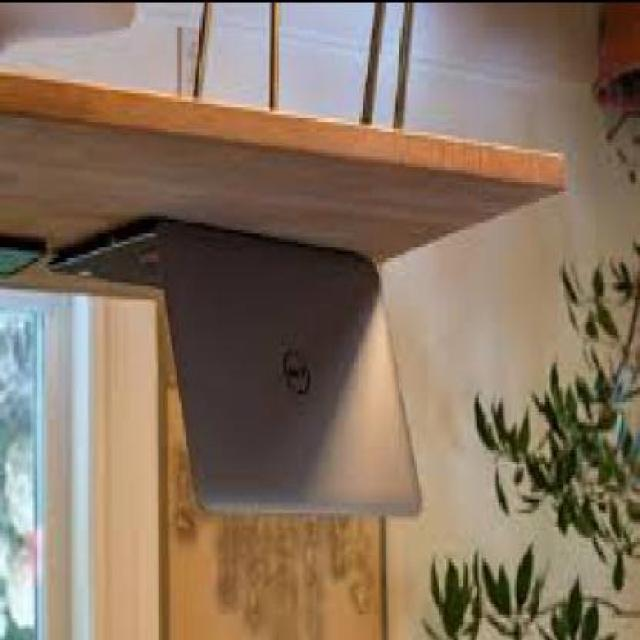laptop: (150, 221, 431, 524)
